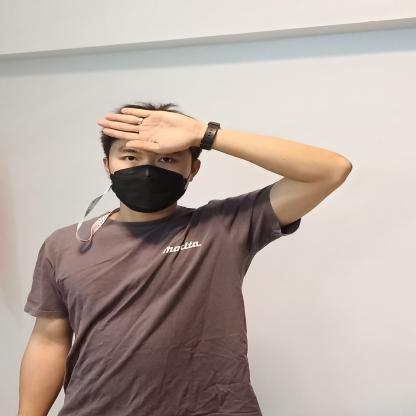Sick: (96, 98, 340, 216)
